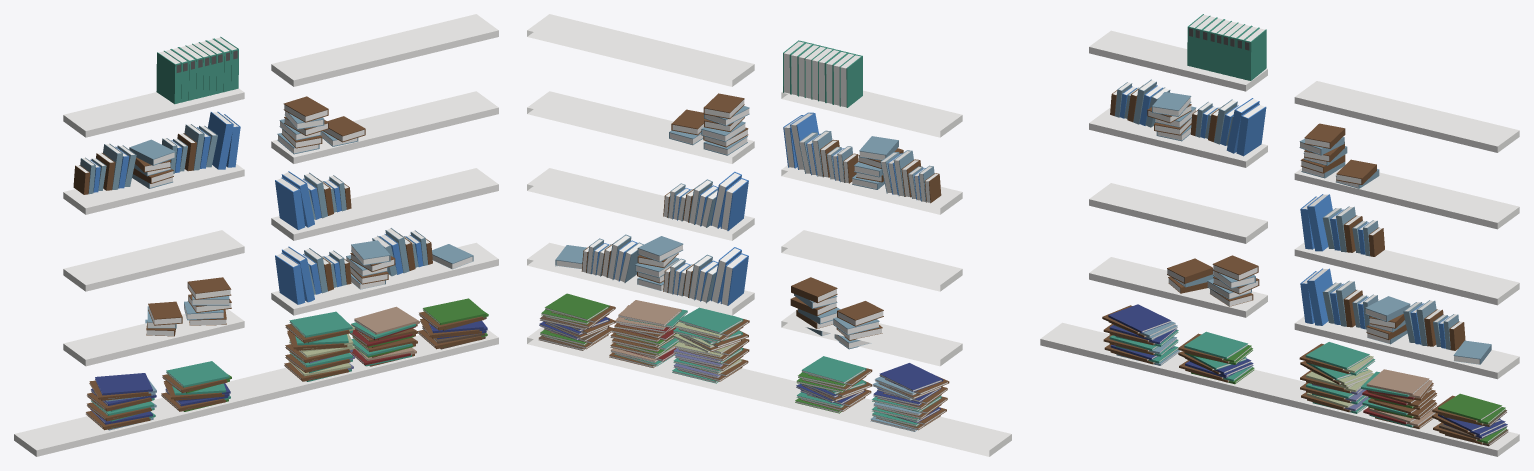
The model's file is Shelf_with_books_4.fbx.
3 renders of one model, left to right at view 1: azimuth 30°, elevation 25°; view 2: azimuth 150°, elevation 25°; view 3: azimuth 330°, elevation 25°, orthographic.
Parts seen in each view (by area): view 1: Shelf_with_books_4; view 2: Shelf_with_books_4; view 3: Shelf_with_books_4.
Part boxes in pixels (x1=…): Shelf_with_books_4: x1=14, y1=14, x2=498, y2=456; Shelf_with_books_4: x1=527, y1=14, x2=1011, y2=456; Shelf_with_books_4: x1=1040, y1=14, x2=1519, y2=456.
Bounding box in the file's own units: 489 × 62.61 × 357.
